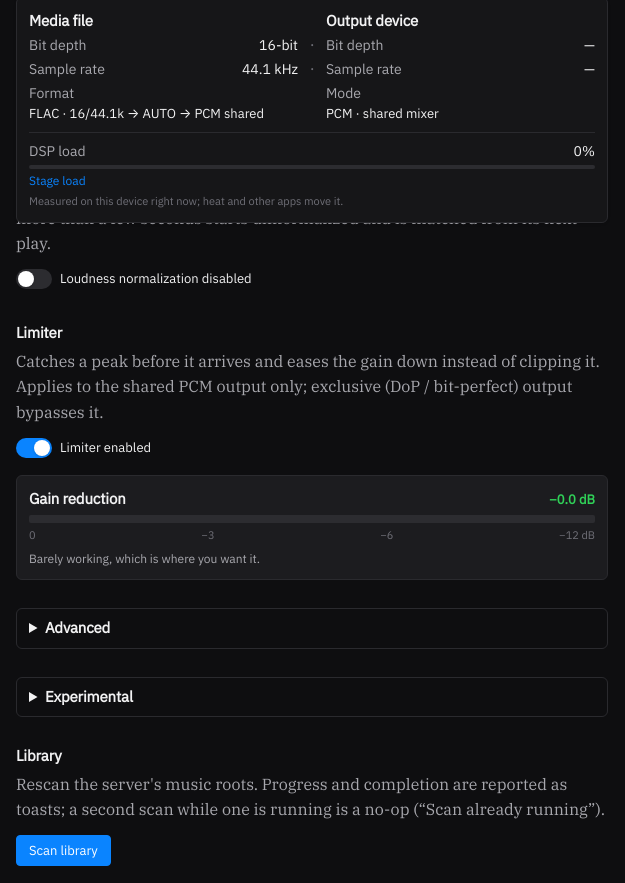
Test: Settings: limiter › says peaks are soft-clipped instead when it is off
(page scrolled)
Click the switch next to "Limiter enabled" at (34, 448), box [16,438,52,458]
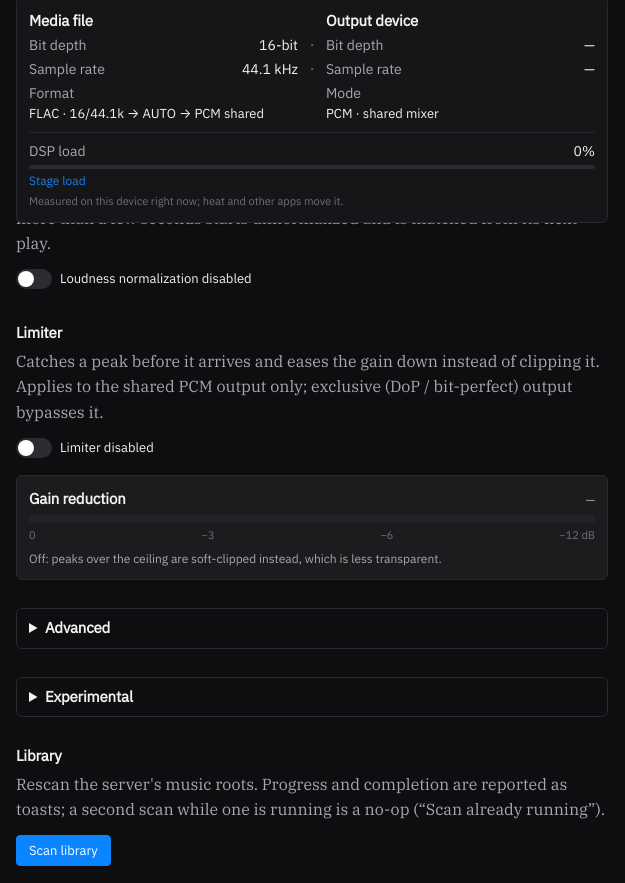
Now the message with test id "limiter-note" shows "soft-clipped", box [29,551,442,566]
